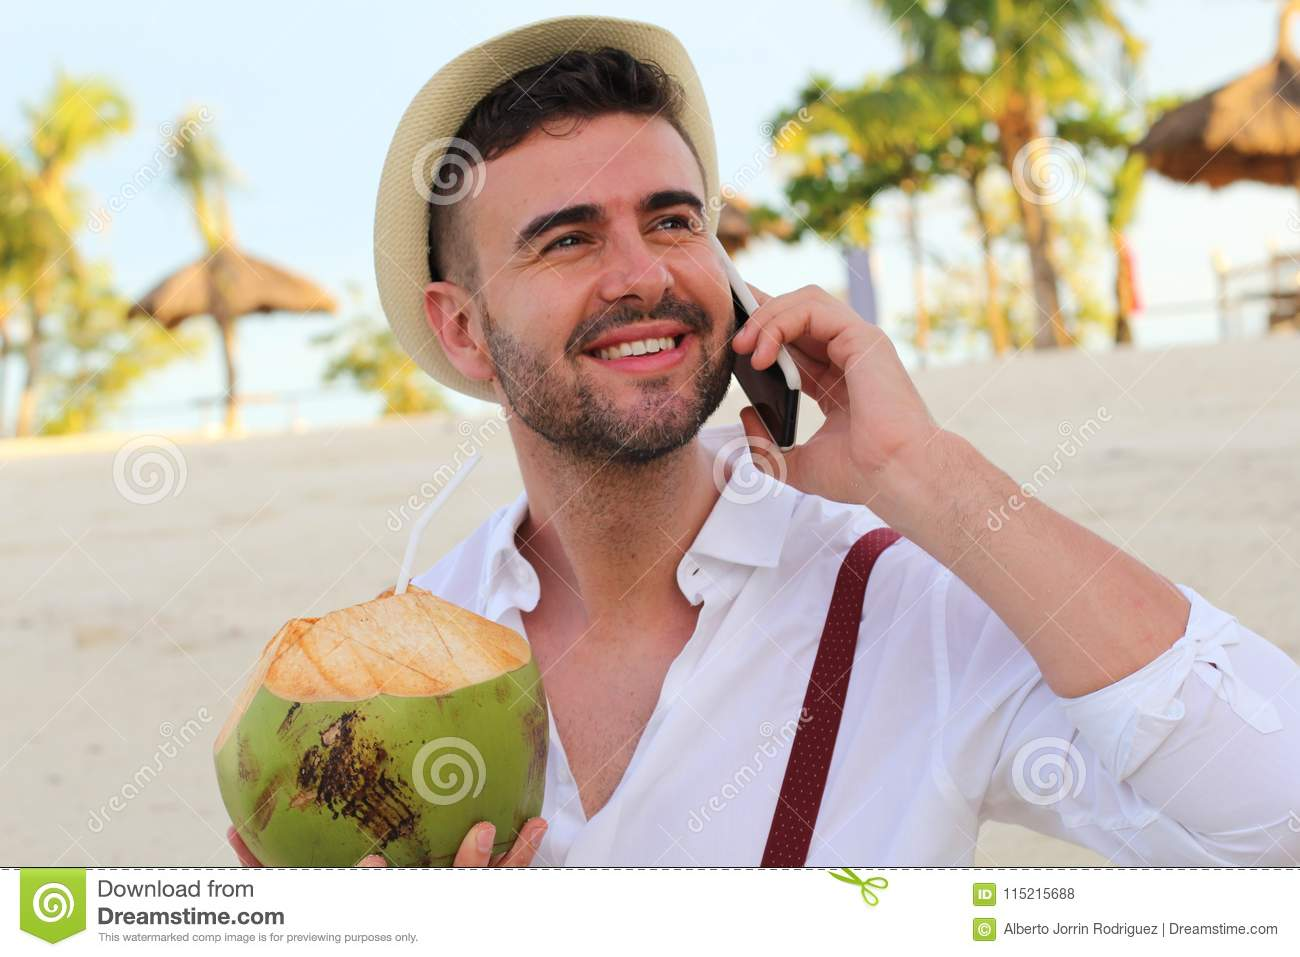phone: (700, 226, 803, 454)
talk: (505, 177, 944, 524)
